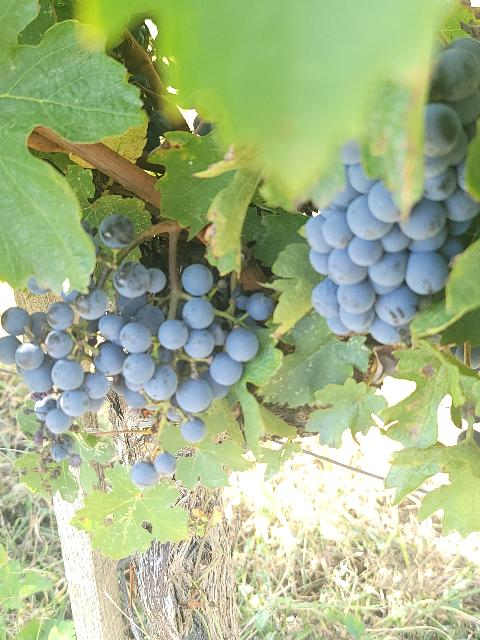grapes: (305, 38, 480, 345), (0, 261, 259, 462)
